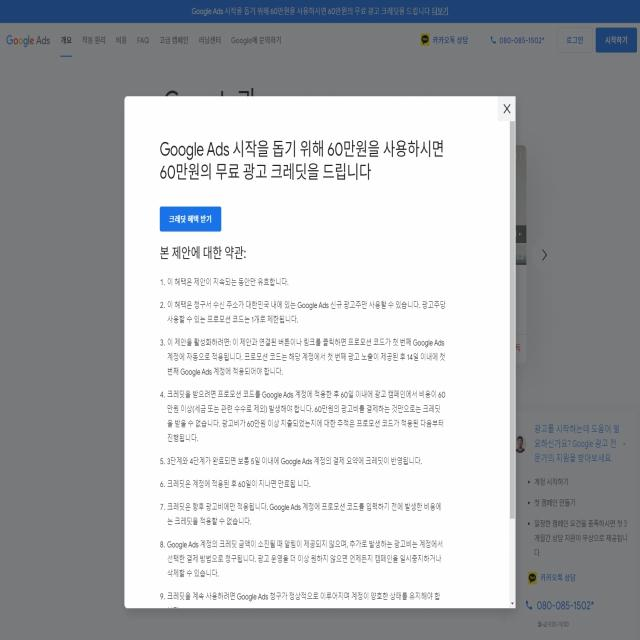menu-bar: (54, 25, 286, 63)
